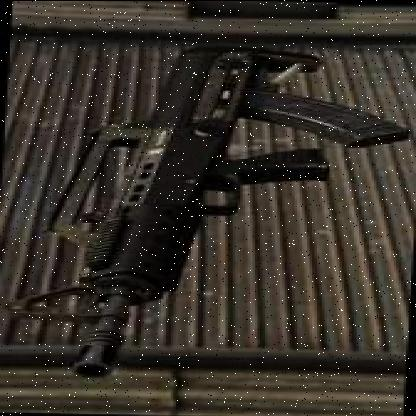rifle: (40, 35, 406, 387)
